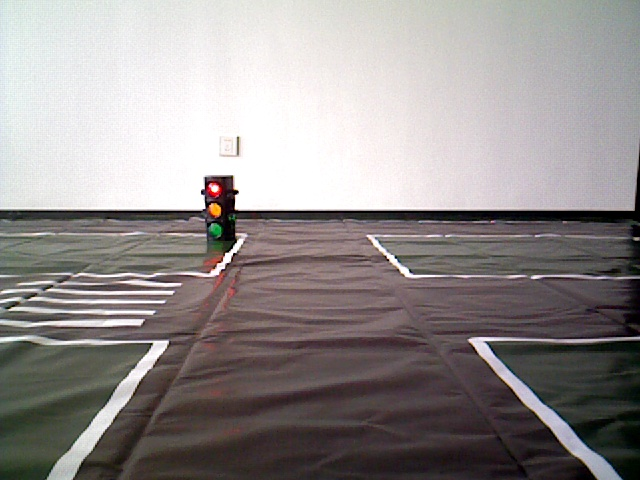red: (204, 177, 233, 240)
